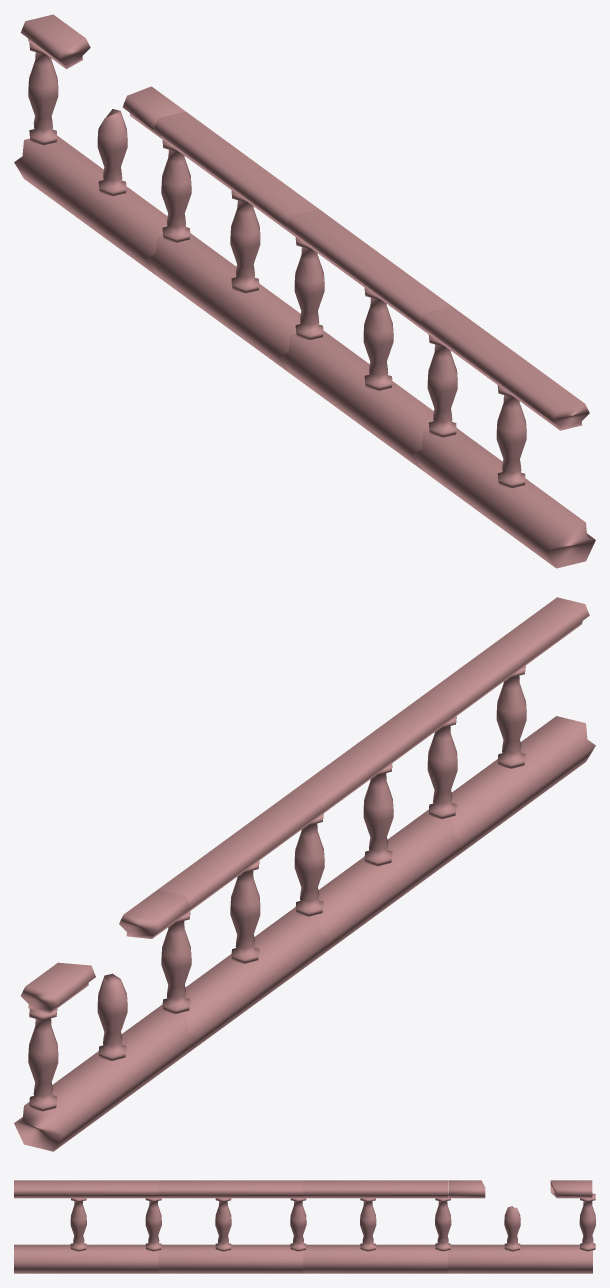
File: Stone_Baluster_01_Lod0.fbx
The picture shows the model from 3 angles, top to bottom: view 1: azimuth 30°, elevation 25°; view 2: azimuth 150°, elevation 25°; view 3: azimuth 270°, elevation 25°; orthographic projection. The views are drawn at different scales.
Visible parts, largest first — view 1: Stone_Baluster_01_Lod0; view 2: Stone_Baluster_01_Lod0; view 3: Stone_Baluster_01_Lod0.
Part boxes in pixels (bbox=[...]): Stone_Baluster_01_Lod0: bbox=[14, 14, 595, 568]; Stone_Baluster_01_Lod0: bbox=[14, 597, 595, 1151]; Stone_Baluster_01_Lod0: bbox=[14, 1180, 595, 1273].
Bounding box in the file's own units: 32.21 × 98.03 × 603.
